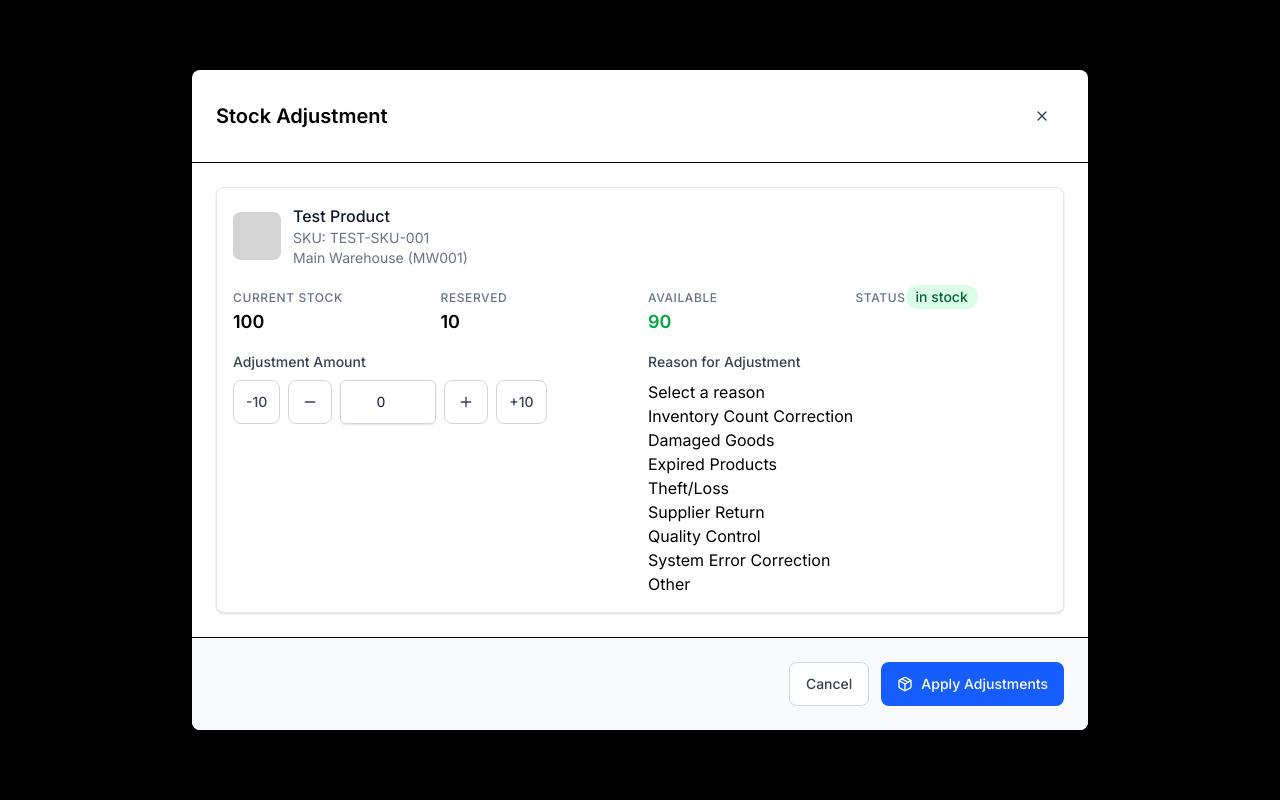
Test: StockAdjustmentModal › updates adjustment amount correctly
Replace the text in the number field showing "0" with "10". click: {"x": 388, "y": 402}
box: [340,380,436,424]
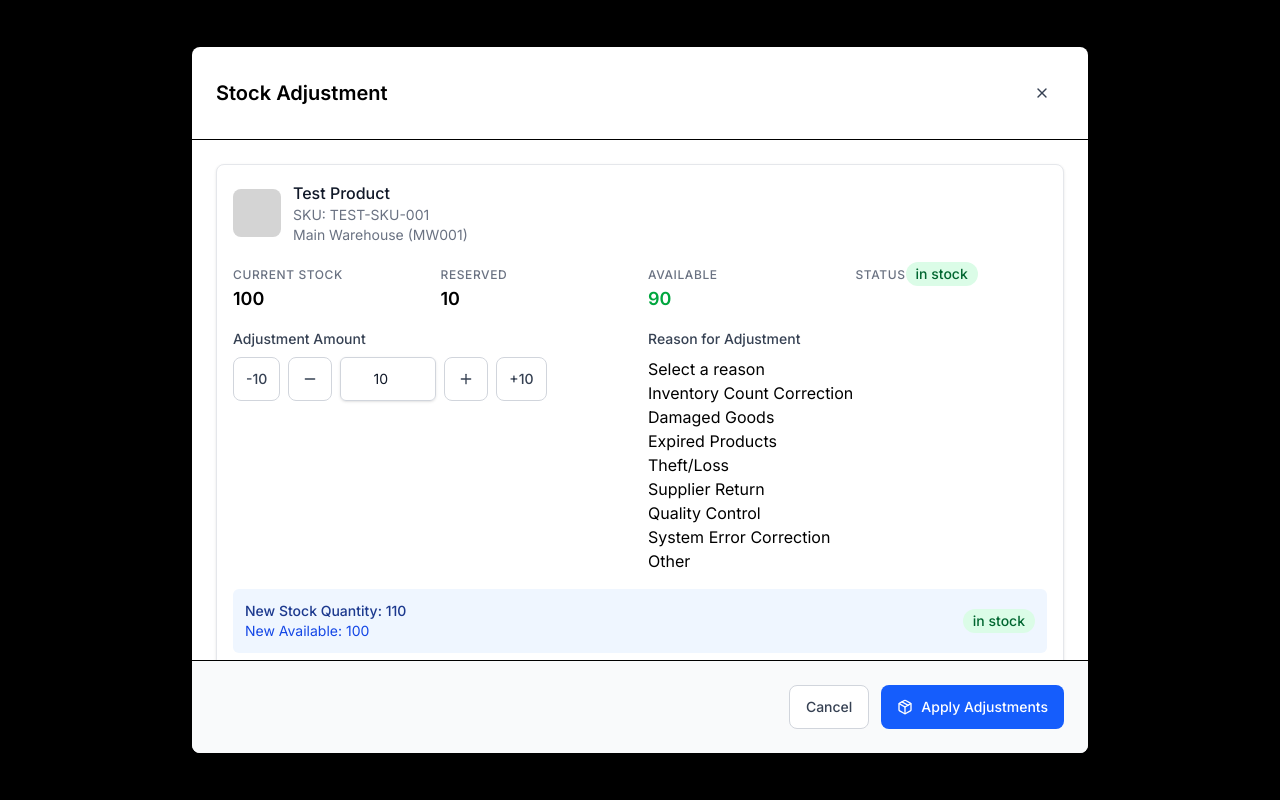
Check: the text "New Stock Quantity: 110" is shown, box [245,601,406,621]
Check: the text "New Available: 100" is shown, box [245,622,369,639]
